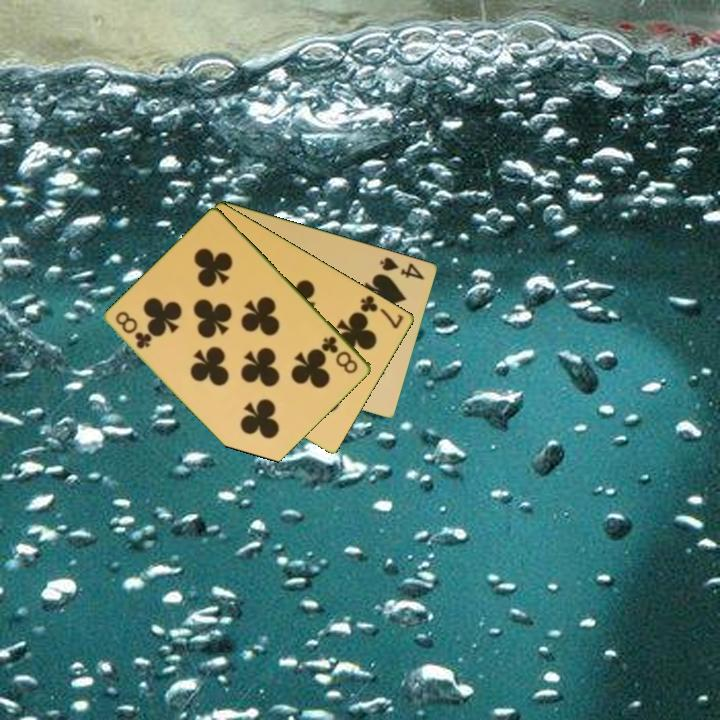4s: (376, 253, 428, 282)
7c: (357, 291, 406, 332)
8c: (318, 332, 361, 377), (112, 307, 155, 352)
